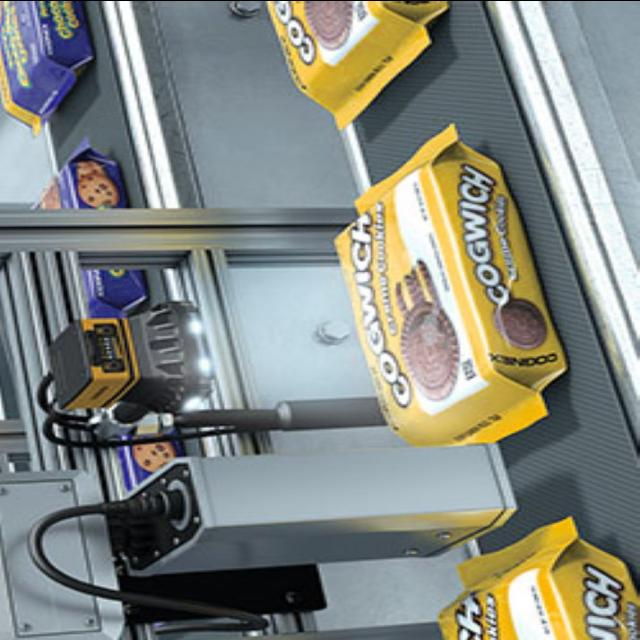food: (330, 122, 570, 448), (422, 504, 640, 640), (253, 0, 452, 130)
